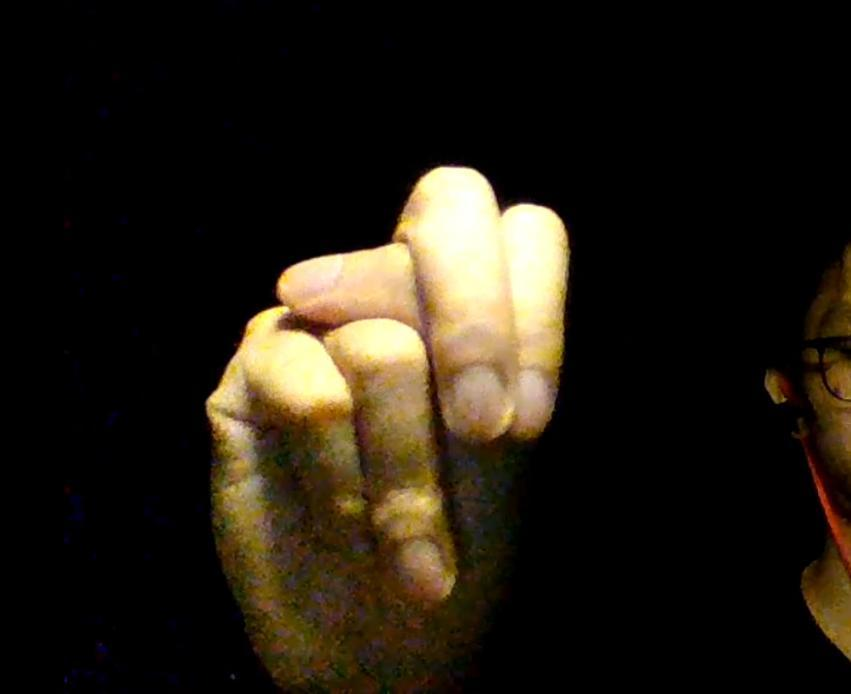n: (201, 162, 573, 694)
